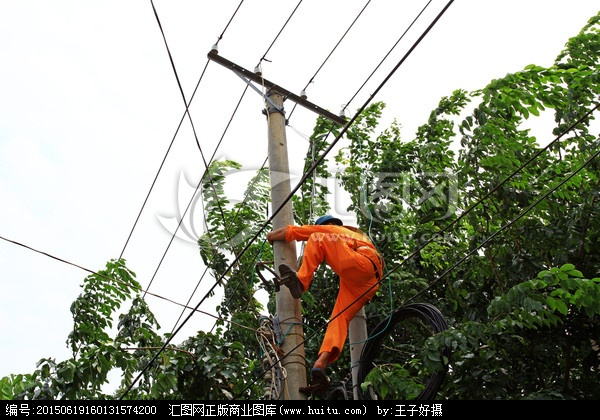blue: (313, 214, 344, 231)
